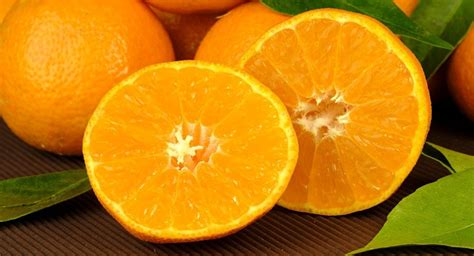orange: (1, 1, 173, 158)
